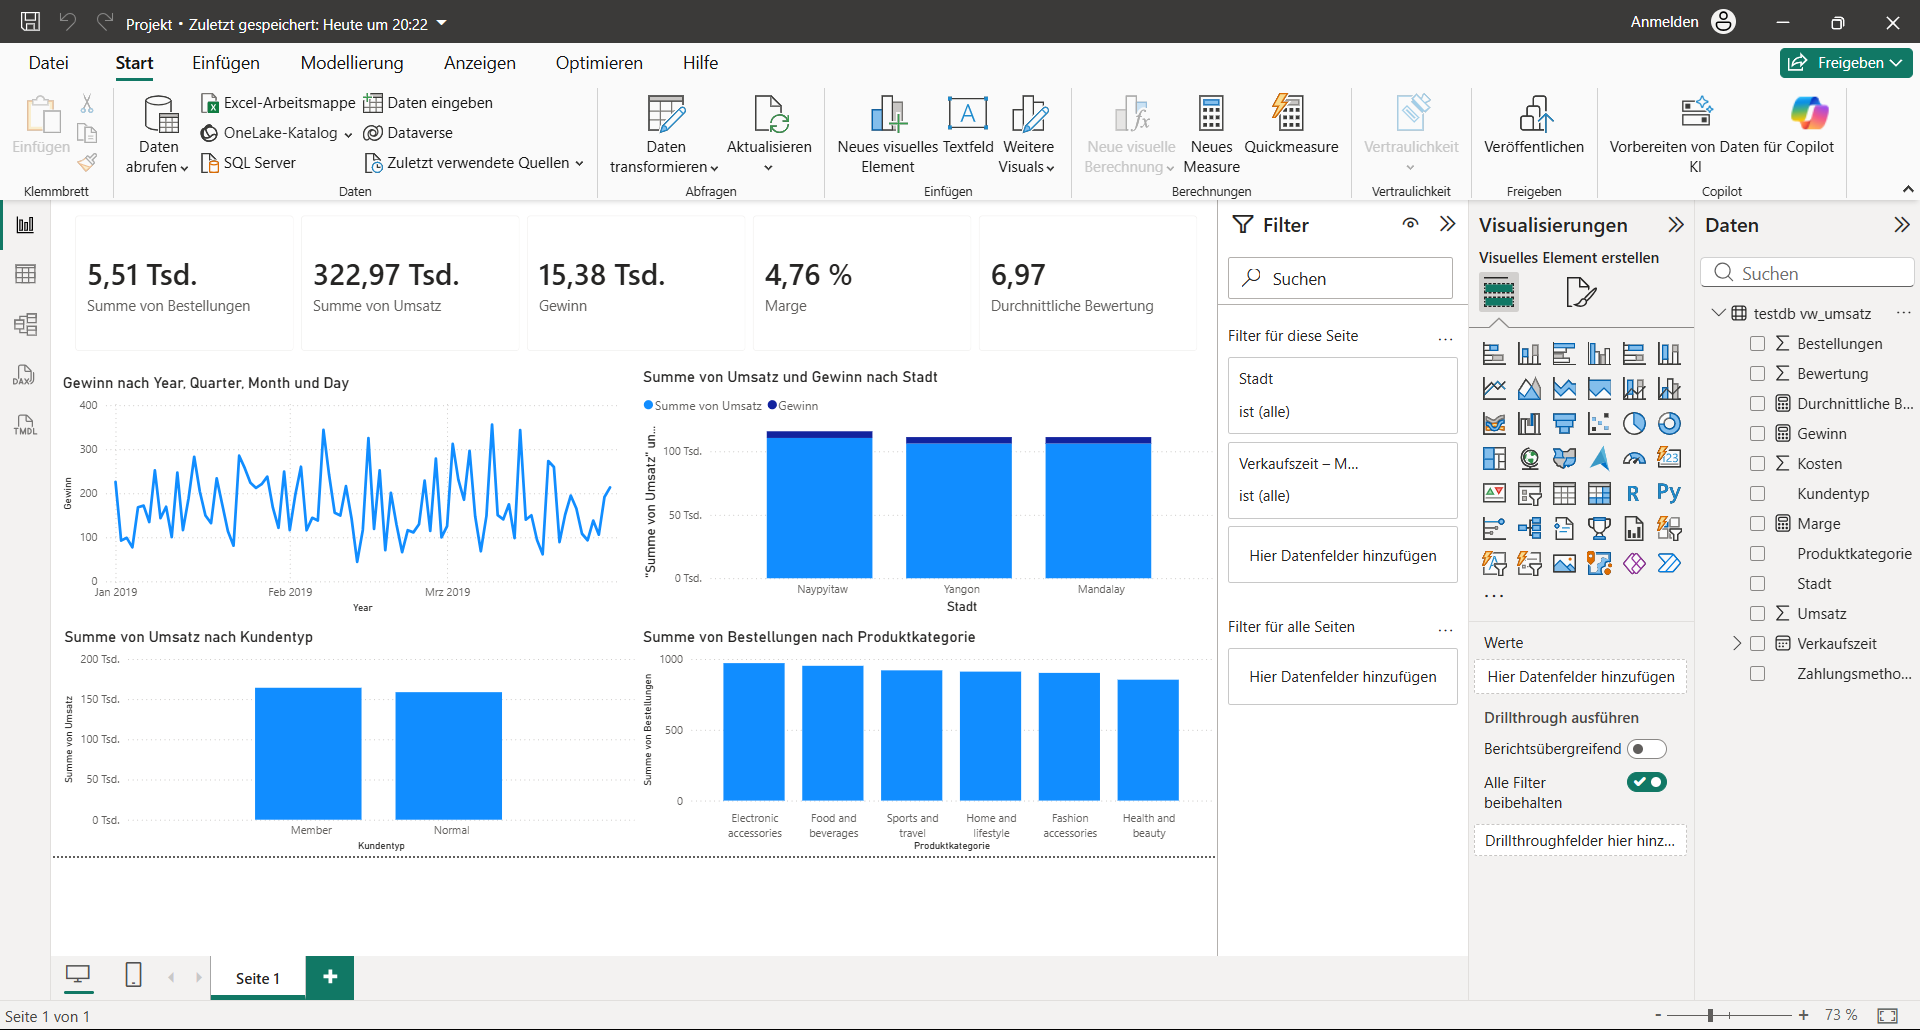

This screenshot's page, from the dashboard's own definition file:
{"tool":"powerbi","page":{"name":"Seite 1","canvas":[1280,720],"ordinal":0},"visuals":[{"type":"cardVisual","fields":{"Data":["Sum(testdb vw_umsatz.Bestellungen)","Sum(testdb vw_umsatz.Umsatz)","testdb vw_umsatz.Gewinn","testdb vw_umsatz.Marge","testdb vw_umsatz.Durchnittliche Bewertung"]},"box":[9.7,0,1270.4,183.4],"z":0},{"type":"lineChart","fields":{"Category":["testdb vw_umsatz.Verkaufszeit.Variation.Date Hierarchy.Year","testdb vw_umsatz.Verkaufszeit.Variation.Date Hierarchy.Quarter","testdb vw_umsatz.Verkaufszeit.Variation.Date Hierarchy.Month","testdb vw_umsatz.Verkaufszeit.Variation.Date Hierarchy.Day"],"Y":["testdb vw_umsatz.Gewinn"]},"box":[8.6,191,635.7,268],"z":1},{"type":"columnChart","fields":{"Category":["testdb vw_umsatz.Stadt"],"Y":["Sum(testdb vw_umsatz.Umsatz)","testdb vw_umsatz.Gewinn"]},"box":[644.3,183.9,635.7,275.1],"z":2},{"type":"columnChart","fields":{"Category":["testdb vw_umsatz.Kundentyp"],"Y":["Sum(testdb vw_umsatz.Umsatz)"]},"box":[9,469,636,251],"z":3},{"type":"columnChart","fields":{"Category":["testdb vw_umsatz.Produktkategorie"],"Y":["Sum(testdb vw_umsatz.Bestellungen)"]},"box":[645,469,635,251],"z":4}]}

Visuals, with their boxes on the page's 1280x720 design canvas (x1, y1, x2, y2). These are canvas units, not pixel positions in the 1920x1030 screenshot, which may show the page scaled, cropped or inside an application window:
cardVisual - Sum(testdb vw_umsatz.Bestellungen) x Sum(testdb vw_umsatz.Umsatz): (x1=10, y1=0, x2=1280, y2=183)
lineChart - testdb vw_umsatz.Verkaufszeit.Variation.Date Hierarchy.Year x testdb vw_umsatz.Verkaufszeit.Variation.Date Hierarchy.Quarter: (x1=9, y1=191, x2=644, y2=459)
columnChart - testdb vw_umsatz.Stadt x Sum(testdb vw_umsatz.Umsatz): (x1=644, y1=184, x2=1280, y2=459)
columnChart - testdb vw_umsatz.Kundentyp x Sum(testdb vw_umsatz.Umsatz): (x1=9, y1=469, x2=645, y2=720)
columnChart - testdb vw_umsatz.Produktkategorie x Sum(testdb vw_umsatz.Bestellungen): (x1=645, y1=469, x2=1280, y2=720)
